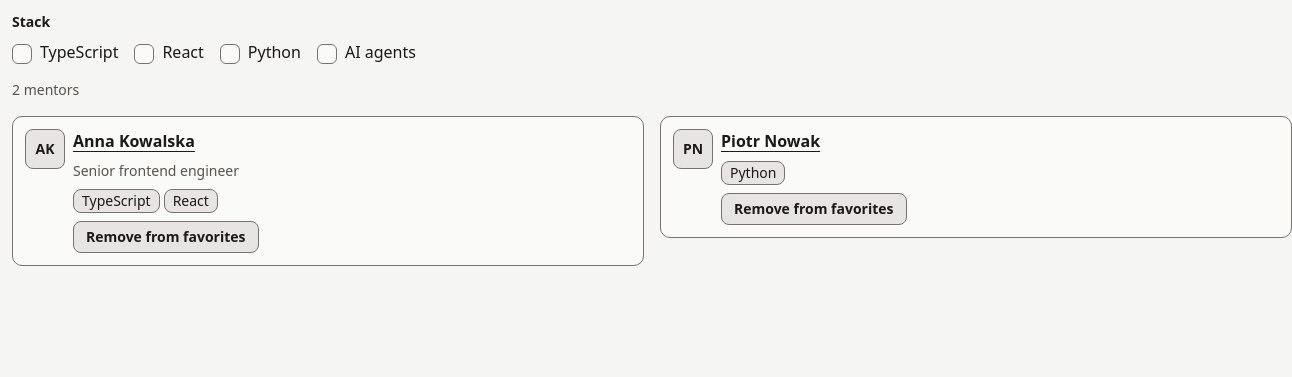
Test: FavoriteMentors › keeps the card and shows the server's words when removing fails, and clears them on the next try
Click the button named "Remove from favorites: Anna".
click(166, 237)  # box [73, 221, 258, 253]
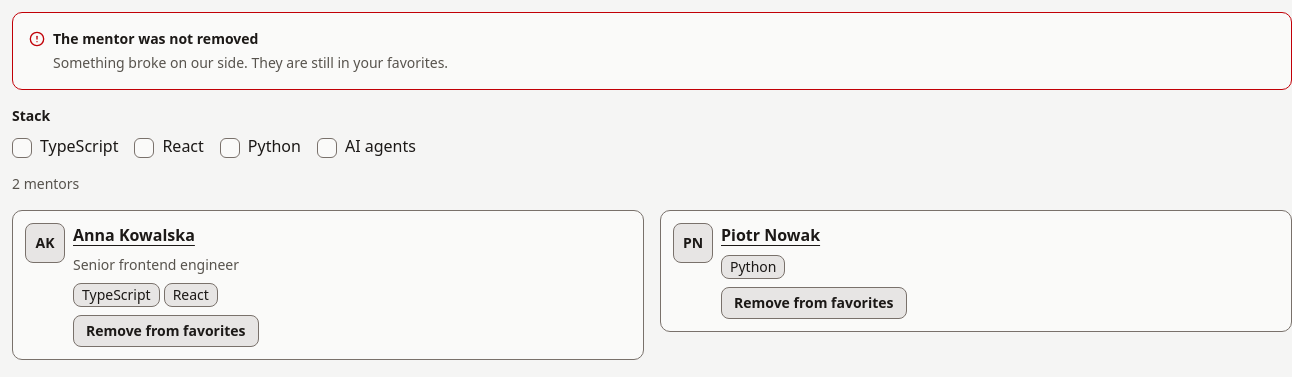
Expected: the message "2 mentors" is shown, [12, 174, 79, 193]
Expected: the message that starts with "The mentor was not removed" shows "Something broke on our side. They are still in your favorites.", [12, 12, 1291, 90]
Click the button named "Remove from favorites: Anna".
click(166, 331)  # box [73, 315, 258, 347]
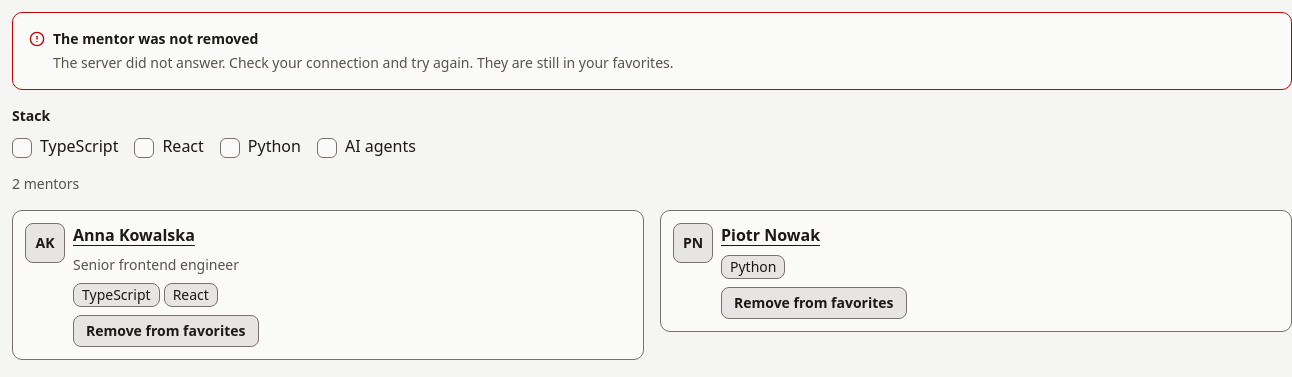
Expected: the message that starts with "The mentor was not removed" shows "The server did not answer", [53, 53, 473, 72]
Expected: the text "Something broke" is gone
